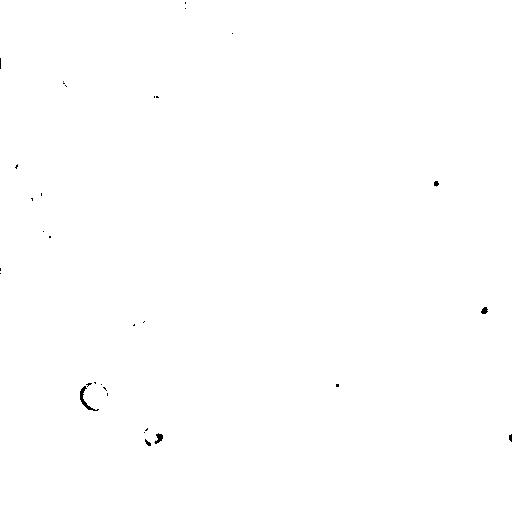micro-algae: (13, 0, 139, 101), (217, 416, 287, 487), (51, 457, 134, 511), (87, 236, 149, 305), (309, 468, 369, 512), (344, 245, 380, 282), (137, 427, 175, 461), (467, 289, 497, 327), (211, 14, 245, 47), (319, 177, 348, 213), (36, 214, 69, 245), (79, 378, 110, 411), (39, 228, 71, 259), (238, 72, 273, 99), (411, 0, 446, 27), (421, 168, 450, 199), (87, 1, 134, 18), (492, 417, 512, 455), (251, 221, 273, 255), (431, 319, 457, 347), (301, 47, 326, 75), (149, 493, 185, 512), (0, 312, 19, 345), (213, 247, 237, 273), (257, 268, 284, 291), (311, 457, 340, 478), (416, 87, 441, 111), (293, 174, 318, 198), (139, 313, 162, 339), (409, 251, 432, 277), (324, 373, 348, 397), (211, 307, 230, 337), (304, 388, 325, 415), (170, 387, 197, 407), (355, 199, 375, 226), (61, 67, 83, 91), (0, 49, 19, 74), (418, 346, 439, 368), (1, 261, 14, 295), (119, 475, 140, 496), (344, 437, 364, 459), (165, 30, 188, 49), (444, 292, 465, 312), (497, 285, 511, 311), (143, 427, 163, 445), (296, 335, 316, 353), (183, 0, 206, 15), (3, 151, 19, 171), (119, 309, 135, 328), (27, 185, 44, 201), (77, 500, 101, 511)
